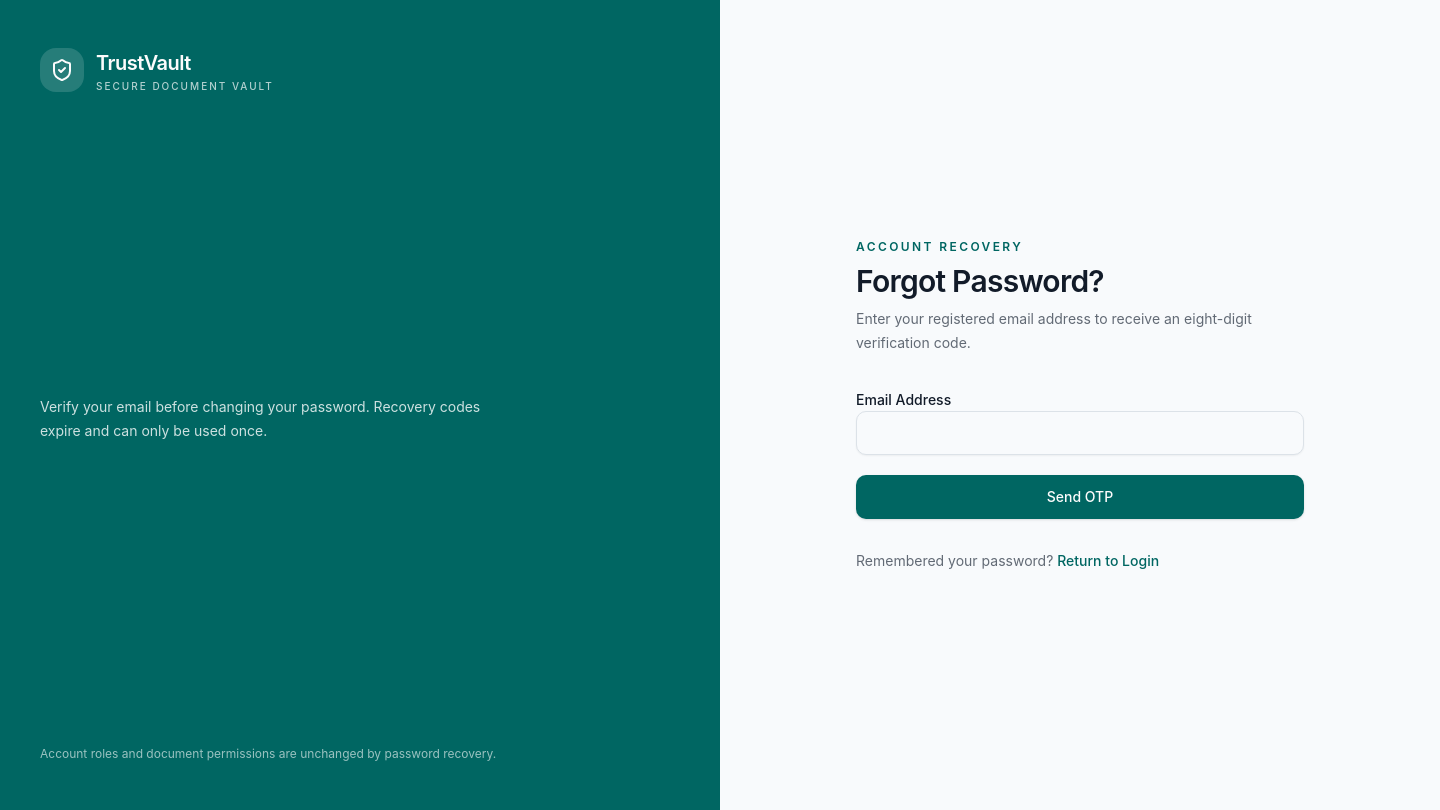
Test case: PasswordRecoveryPage › honours the server retry delay when Supabase throttles a code request
The width and height of the screenshot is (1440, 810).
Type "person@example.com" into the field labelled "Email Address" at (1080, 433), box [856,411,1304,455]
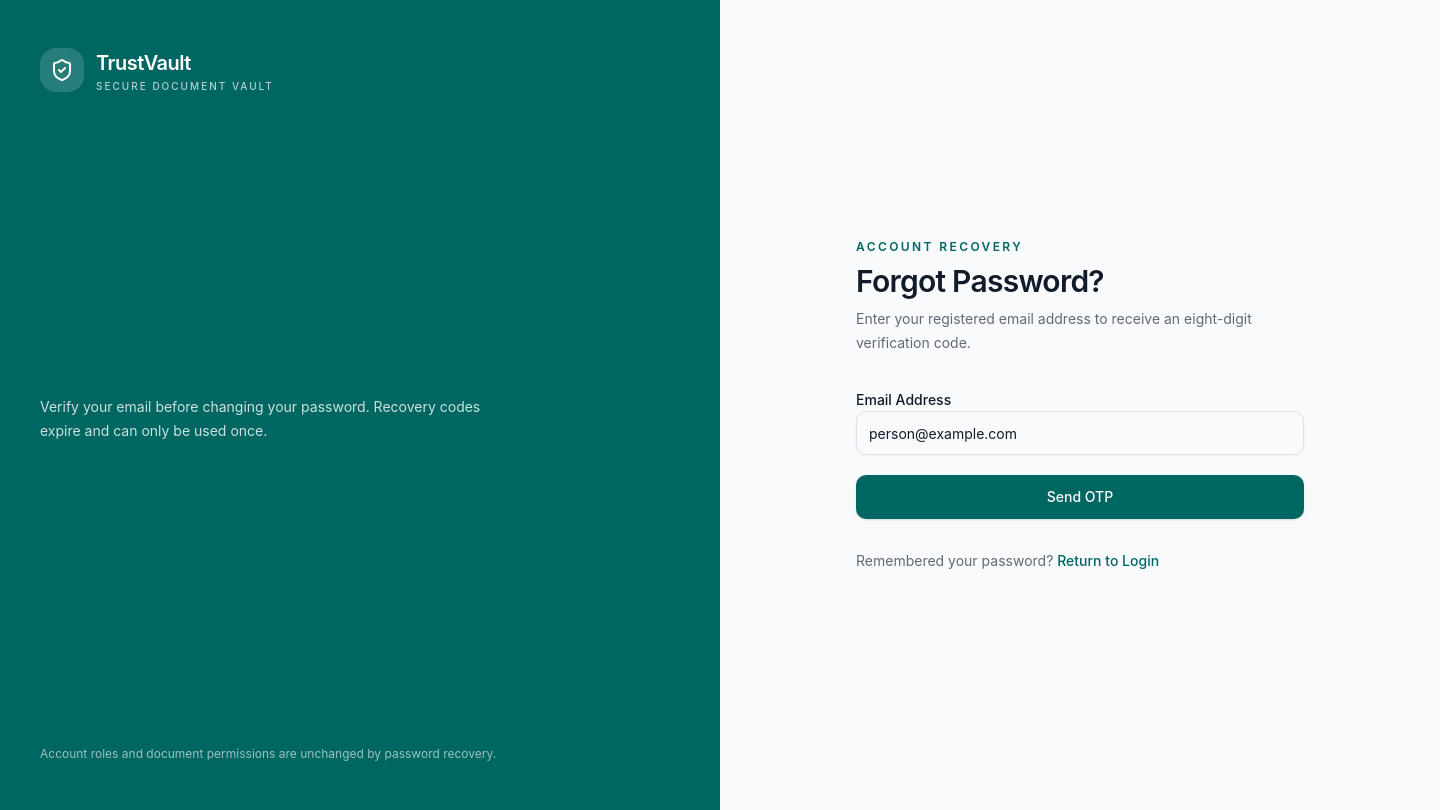
Click the button "Send OTP" at (1080, 497), box [856,475,1304,519]
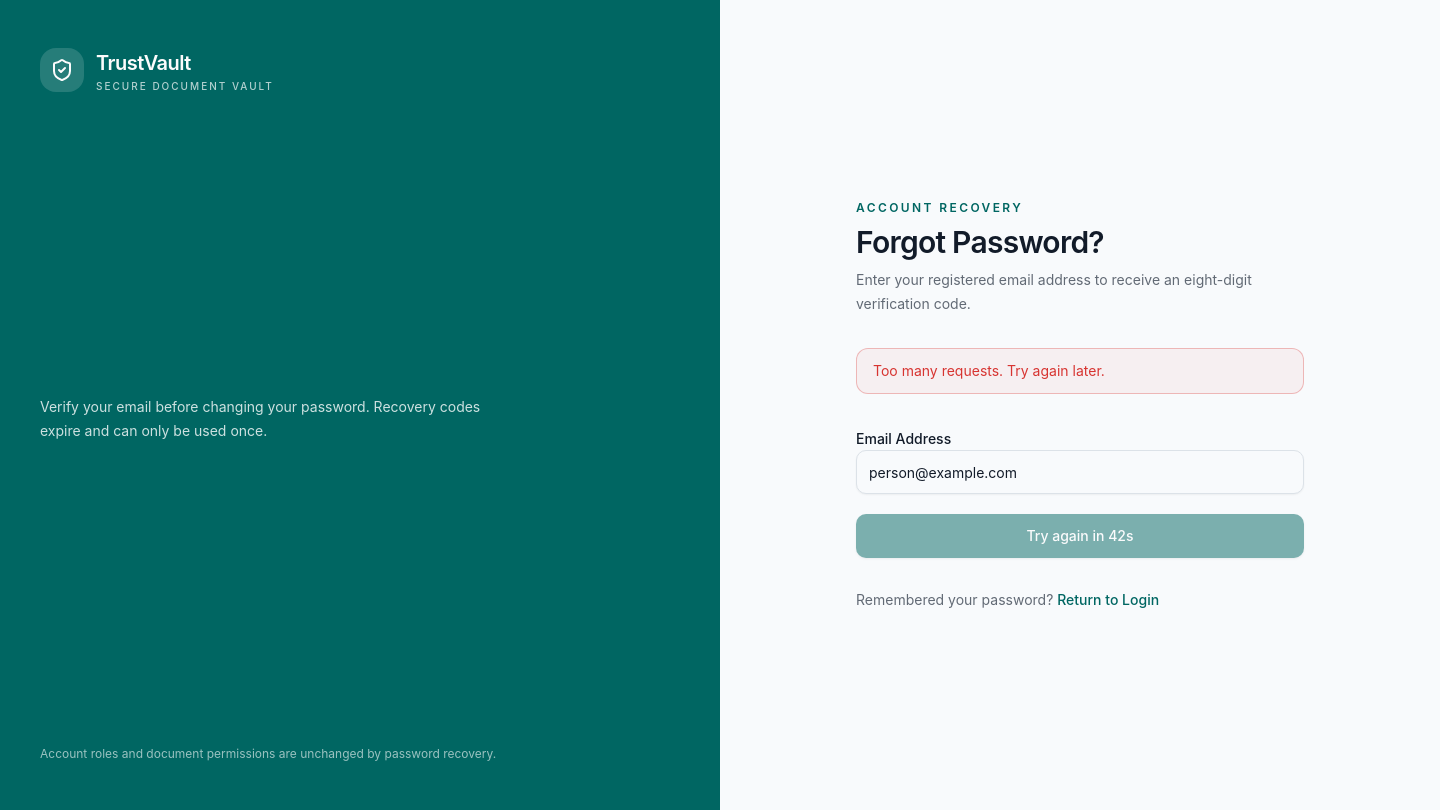
Expected: the message reads "Too many requests. Try again later.", [873,362,1105,379]
Expected: the button "Try again in 42s" is disabled, [856,514,1304,558]
